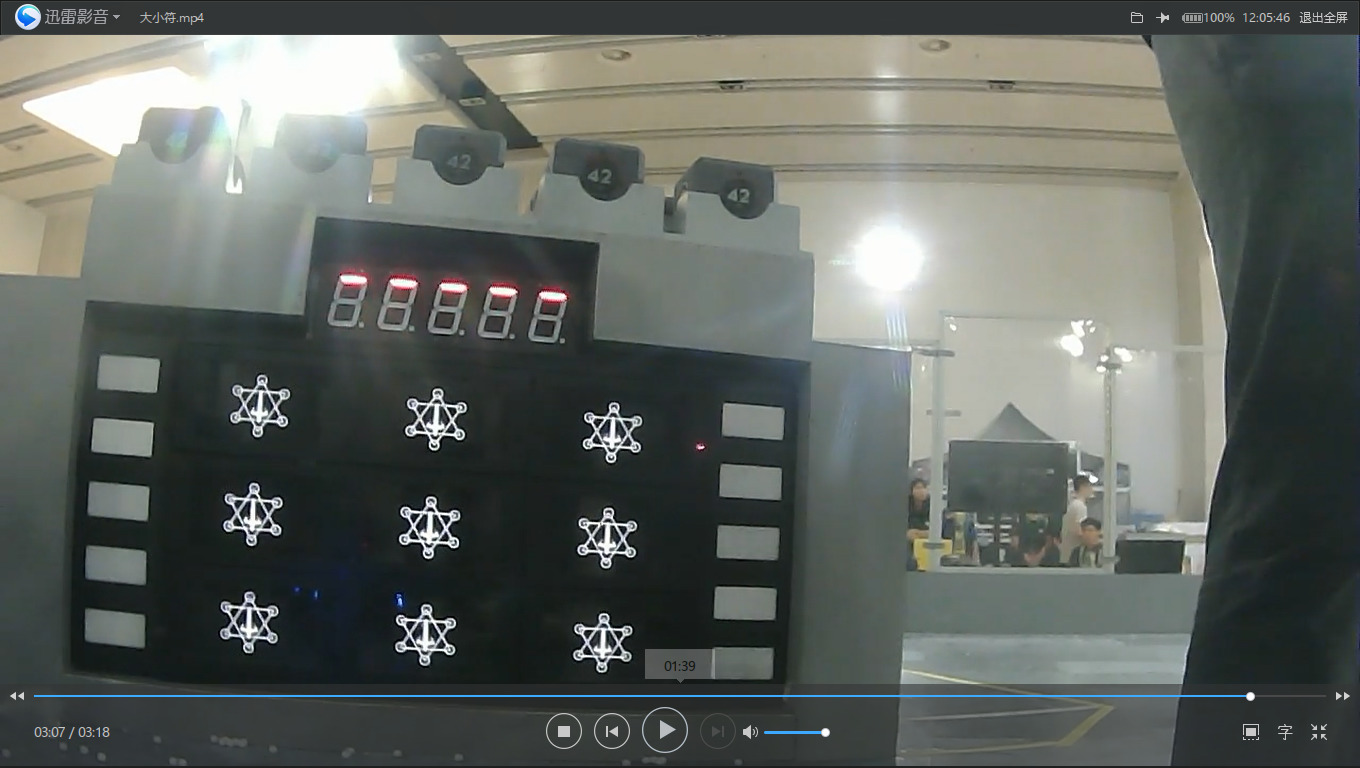box: (133, 102, 243, 184), (406, 125, 521, 196), (671, 157, 781, 229), (543, 138, 655, 208), (275, 108, 378, 176)
